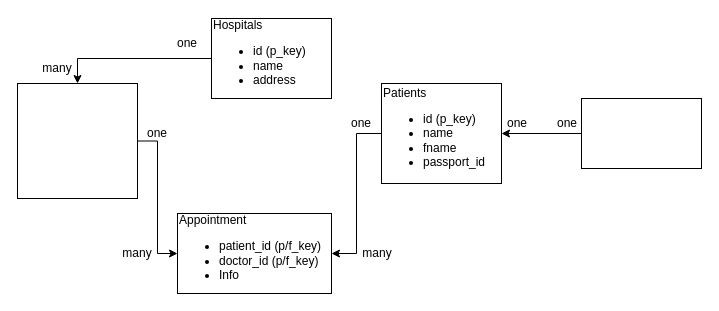
Some shapes in this 719 by 311 pixel diagram are drawn without their labels. Here are the shapes that lost their labels. From the top down, the box of each, then its label:
(16, 82, 138, 198): Doctors id (p_key) name fname speciality hospital_id
(580, 98, 702, 168): Passport id (p_key) ind_code
